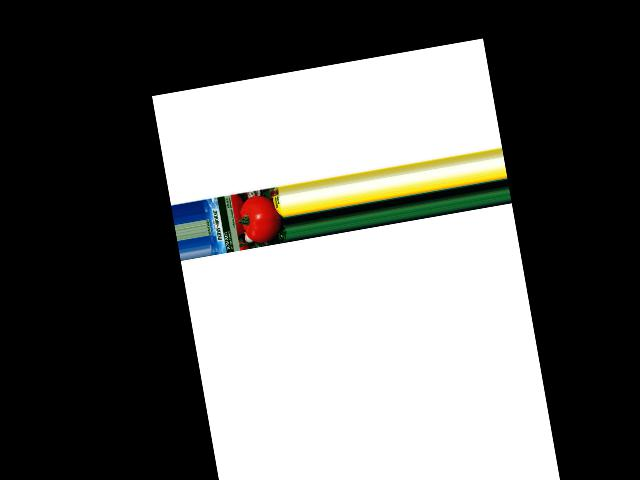tomato: (238, 192, 285, 245)
